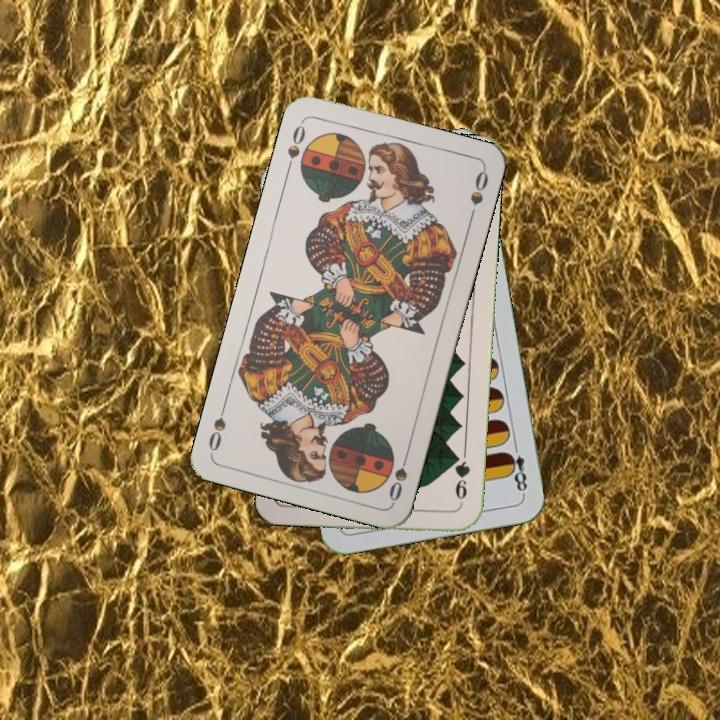E8: (502, 438, 530, 497)
G9: (450, 449, 473, 509)
SO: (385, 446, 412, 505), (282, 117, 308, 175)
